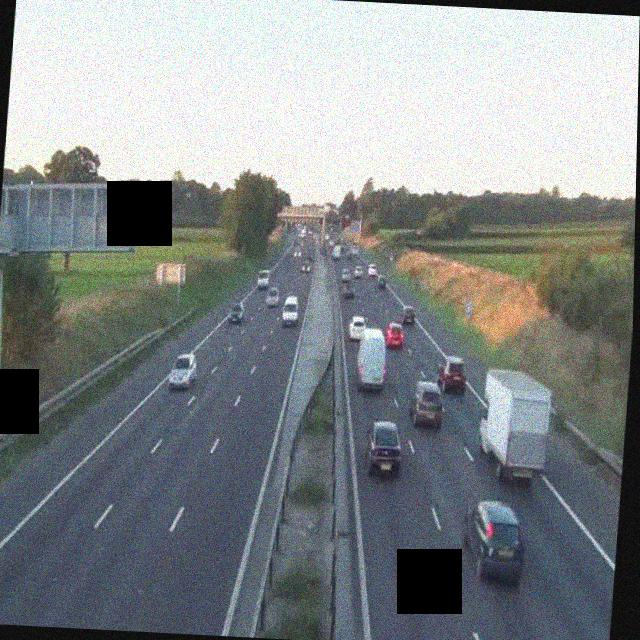car: (460, 500, 528, 584), (363, 420, 404, 478), (407, 379, 446, 428), (435, 357, 468, 394), (168, 352, 198, 389), (281, 294, 300, 325), (348, 314, 366, 343), (386, 322, 405, 348), (230, 302, 246, 324), (402, 304, 417, 327), (265, 287, 280, 308), (257, 269, 271, 290), (343, 282, 357, 298), (341, 268, 352, 283), (377, 274, 388, 288), (302, 260, 313, 274), (368, 264, 379, 278)
truck: (475, 368, 555, 488), (354, 323, 389, 390), (331, 242, 341, 260)
